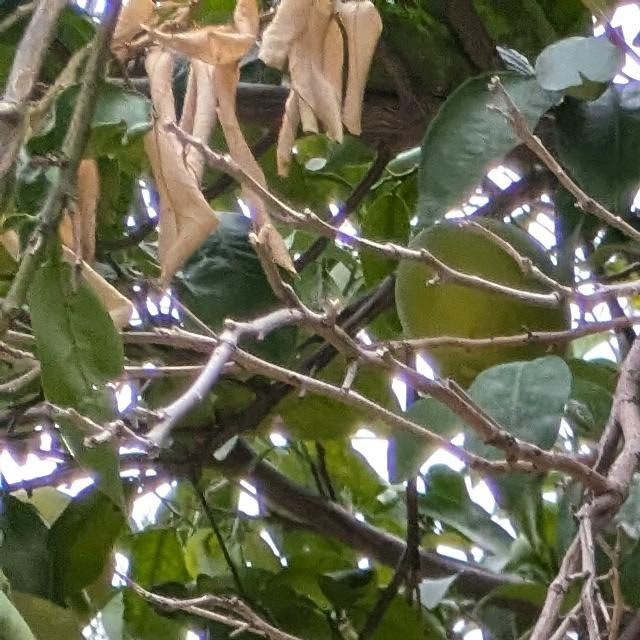orange: (398, 213, 576, 409)
